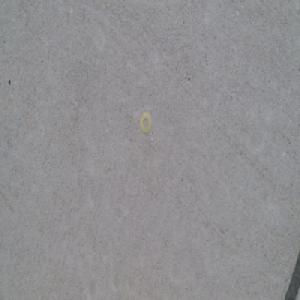Washer: (140, 110, 152, 135)
